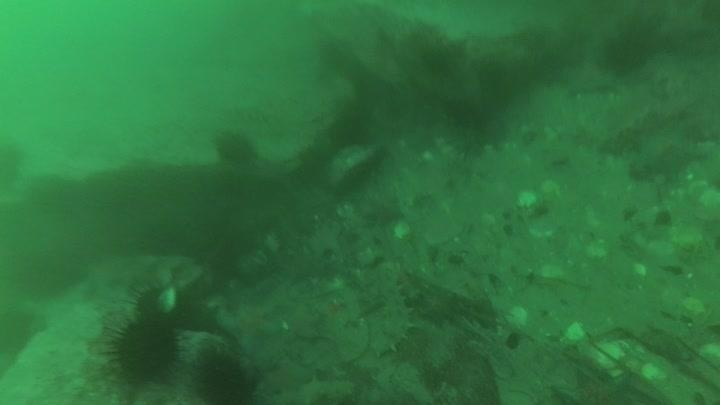echinus: (105, 315, 183, 385), (191, 348, 258, 405), (600, 28, 653, 77), (129, 281, 179, 322), (212, 128, 258, 168)
holothurian: (368, 273, 417, 359), (281, 375, 360, 405), (219, 99, 281, 126)
starfish: (630, 122, 708, 183), (215, 297, 285, 357), (550, 361, 637, 404)
